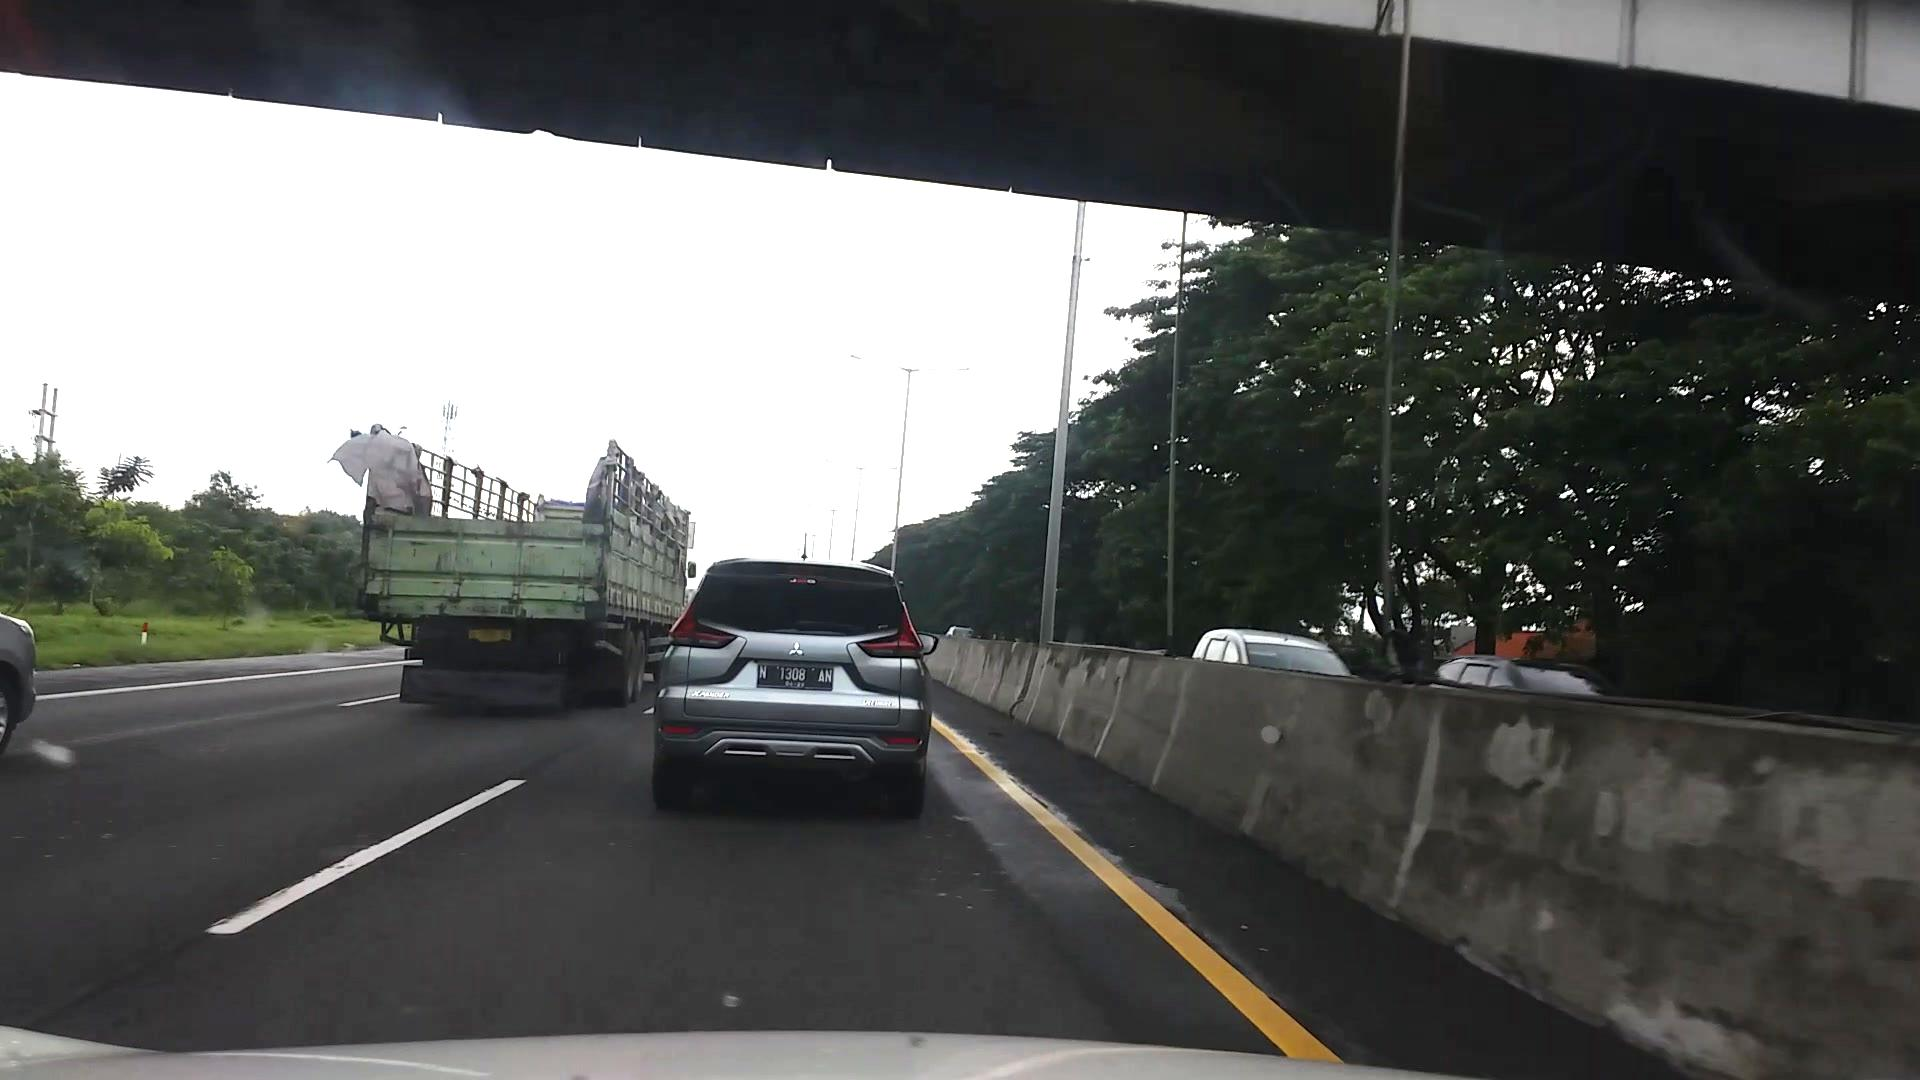plate_positive: (757, 663, 833, 691)
